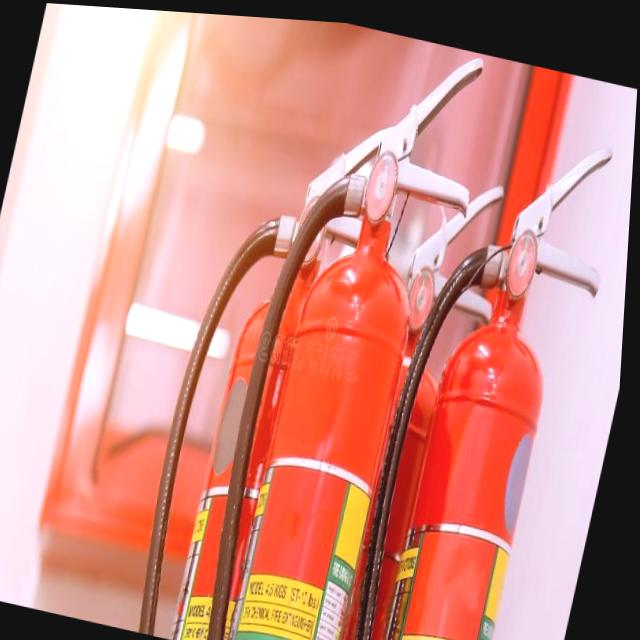FireExtinguisher: (195, 12, 504, 640), (126, 63, 420, 640), (344, 94, 635, 640)
